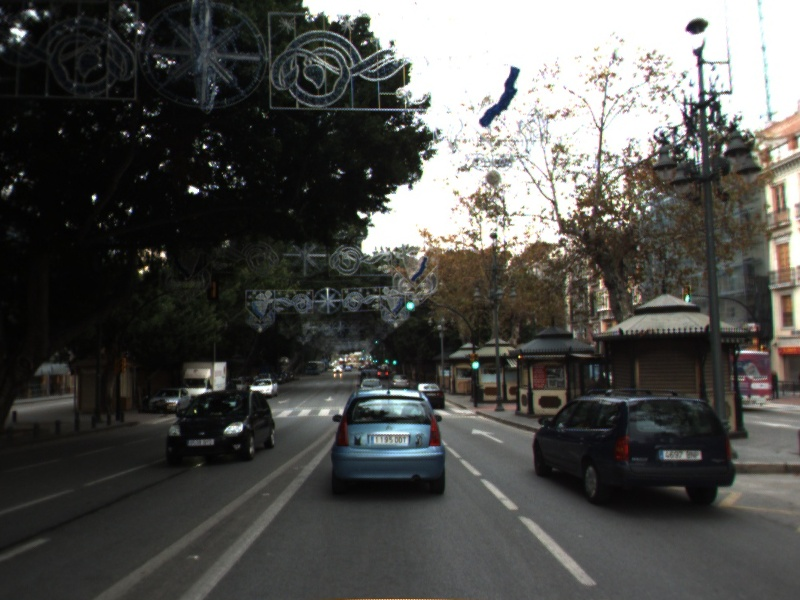STRAIGHT: (469, 426, 506, 445)
